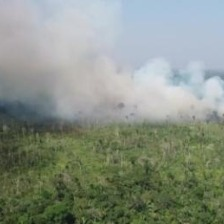incendio: (1, 63, 222, 128)
